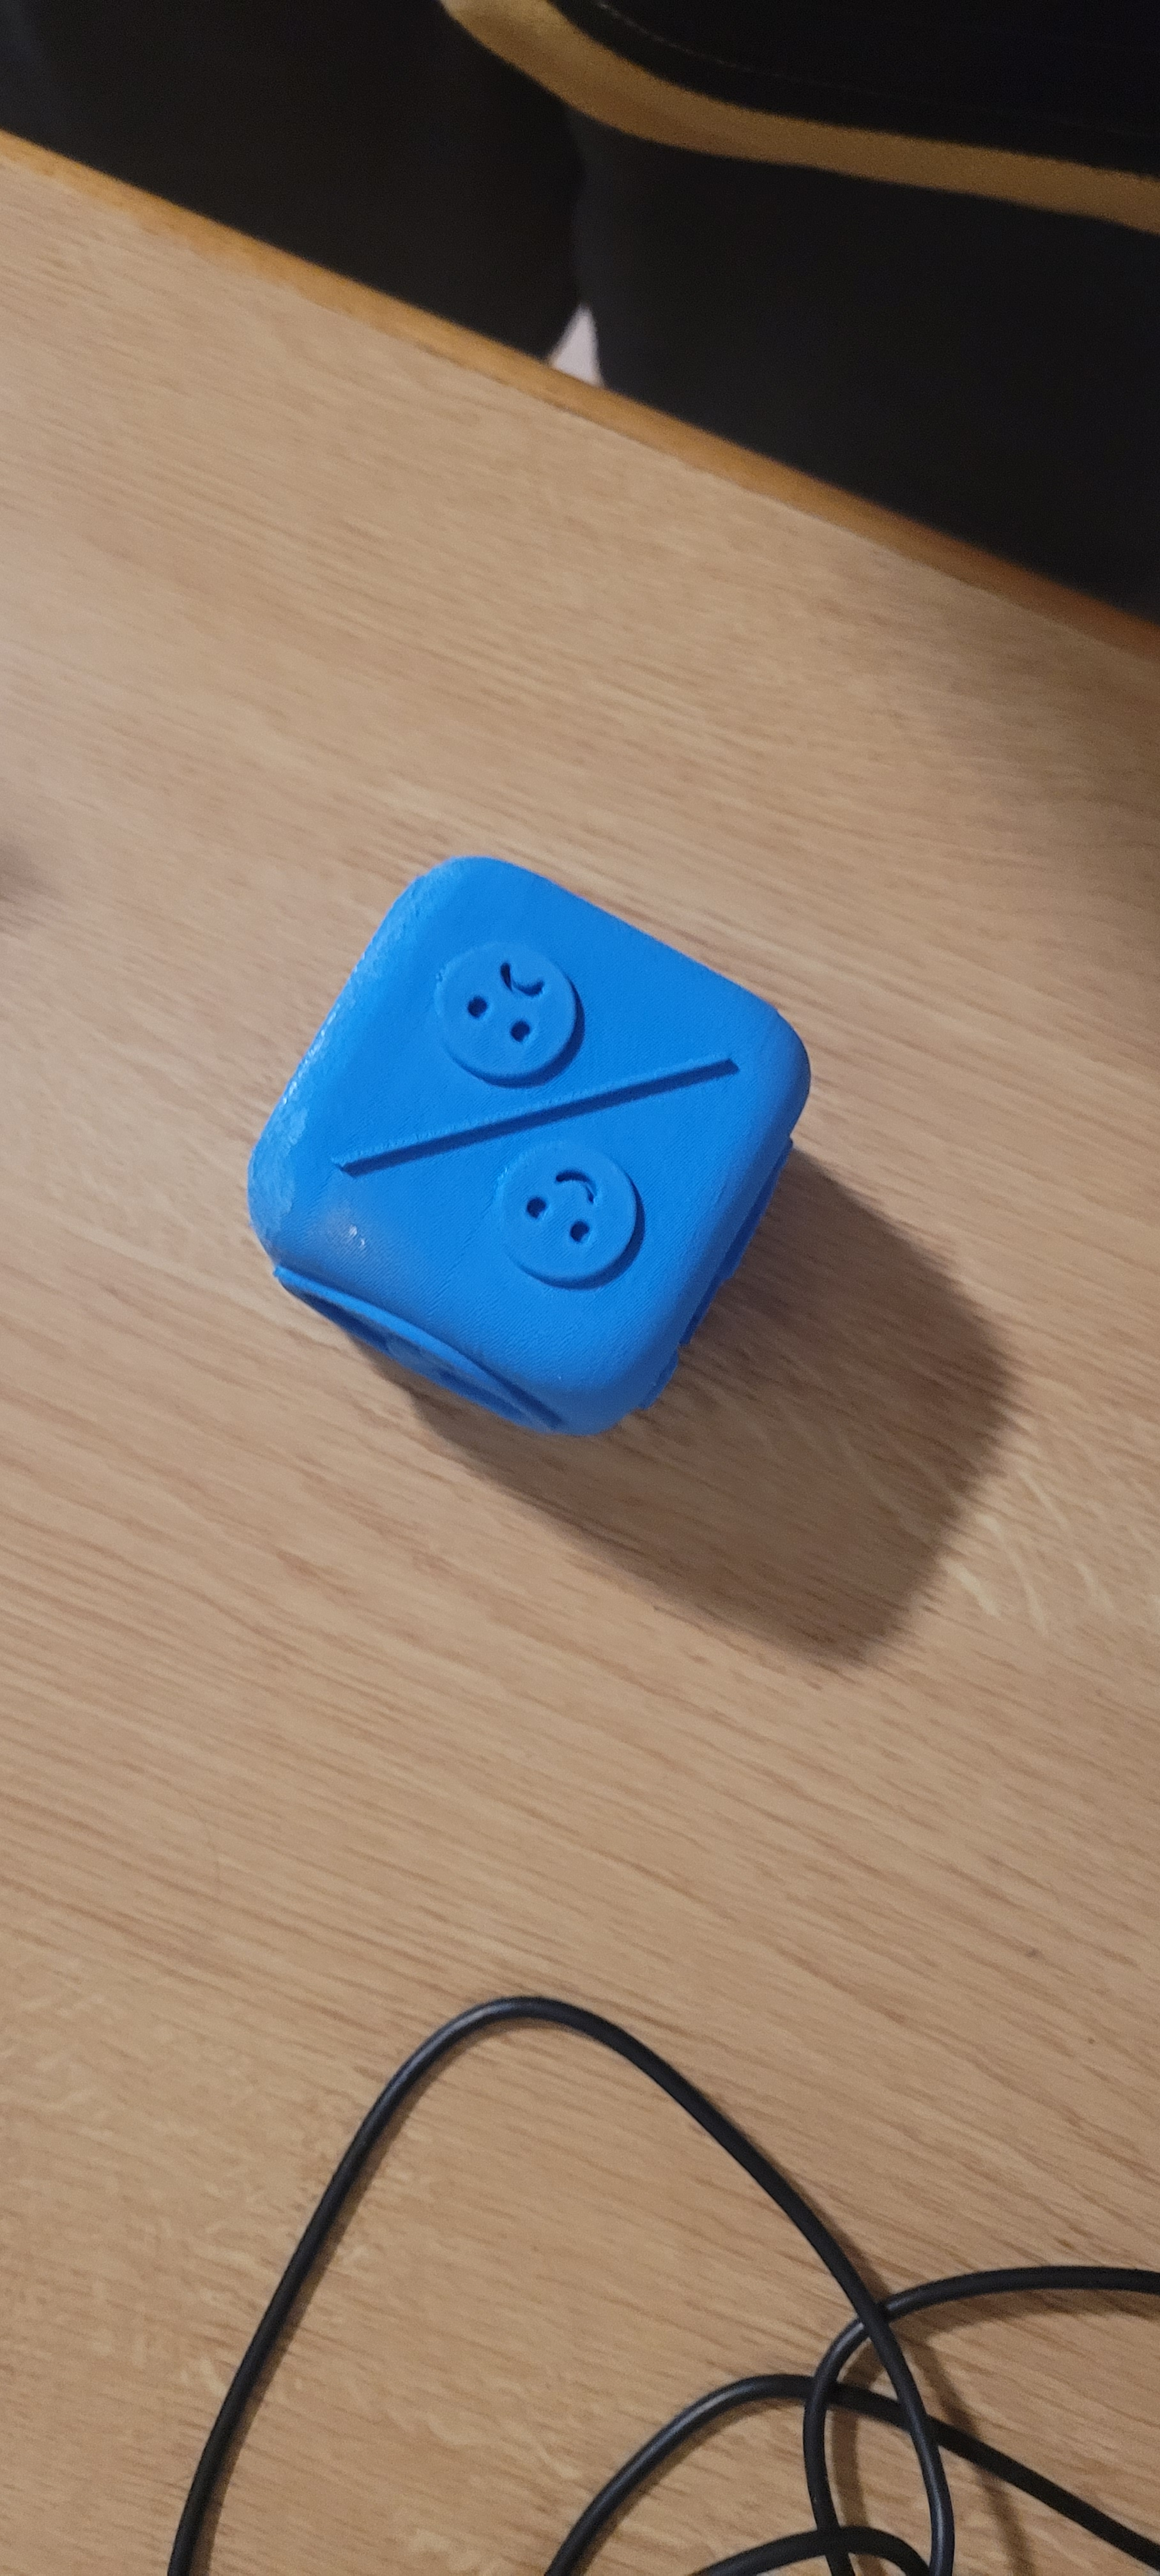Like/Dislike: (233, 844, 790, 1341)
